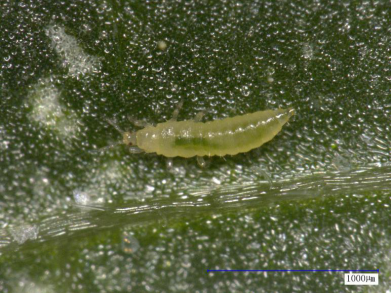thrips: (102, 107, 295, 166)
